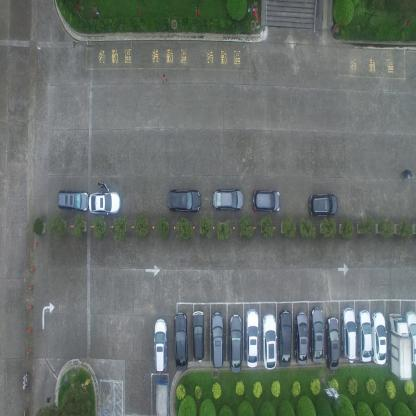car: (389, 311, 412, 381), (340, 305, 356, 364), (167, 186, 200, 214), (88, 189, 121, 217), (370, 311, 387, 365), (262, 313, 277, 371), (309, 306, 324, 364), (229, 313, 243, 375), (173, 312, 187, 372), (245, 308, 259, 368), (278, 309, 292, 368), (210, 312, 224, 368), (308, 191, 337, 218), (252, 187, 281, 214), (153, 317, 167, 372), (358, 308, 372, 363), (325, 316, 339, 370), (212, 187, 243, 211), (191, 309, 205, 362), (56, 189, 88, 212), (295, 310, 308, 366), (404, 310, 416, 367), (154, 380, 169, 416)
